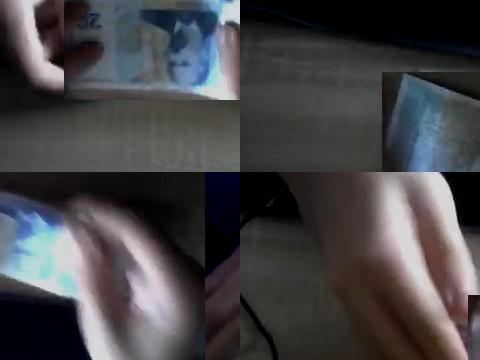20leva: (0, 186, 205, 360), (382, 72, 480, 172)
